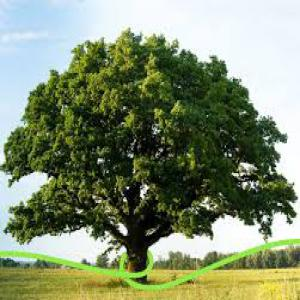Tree: (1, 24, 295, 272)
